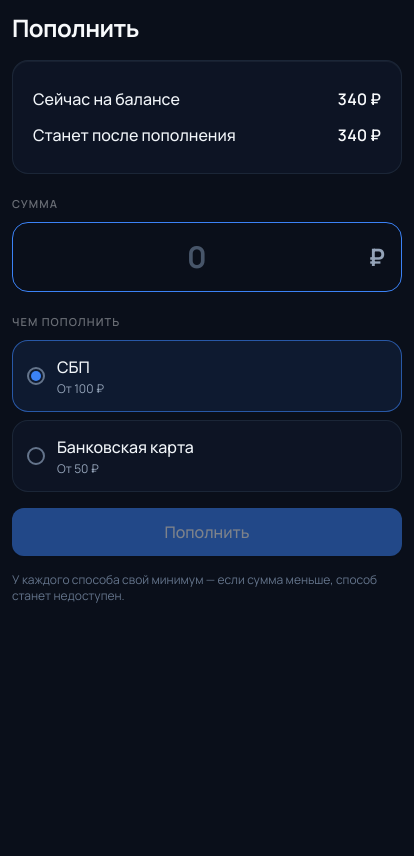
SimpleTopUp › способ, чей минимум не проходит по сумме, недоступен для выбора
This screenshot has width=414, height=856.
Expected: the button "СБП От 100 ₽" is shown, [12,340,402,412]
Step 1. Type "80" into the number field labelled "Сумма" → (197, 257), box [29,239,364,275]
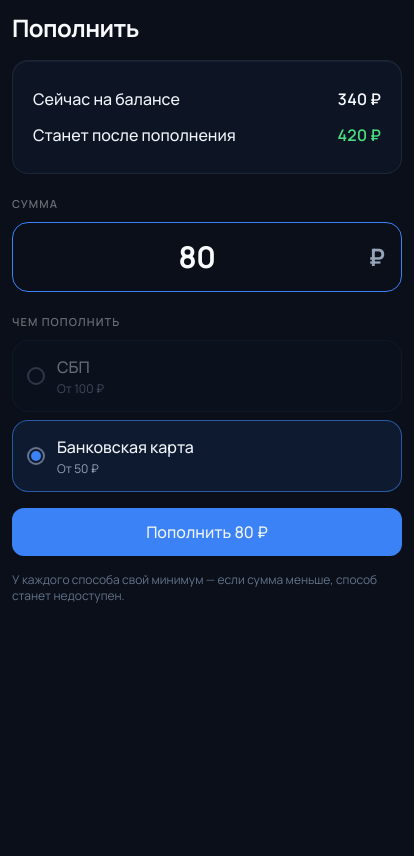
Expected: the button "Банковская карта От 50 ₽" is enabled, [12,420,402,492]
Expected: the button "СБП От 100 ₽" is disabled, [12,340,402,412]
